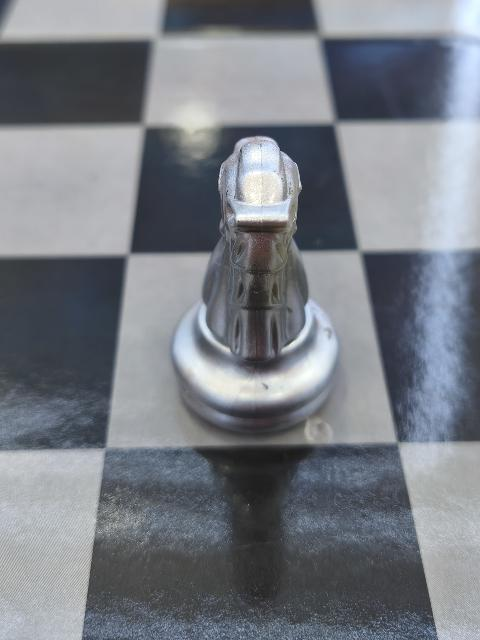white_knight: (172, 136, 338, 428)
